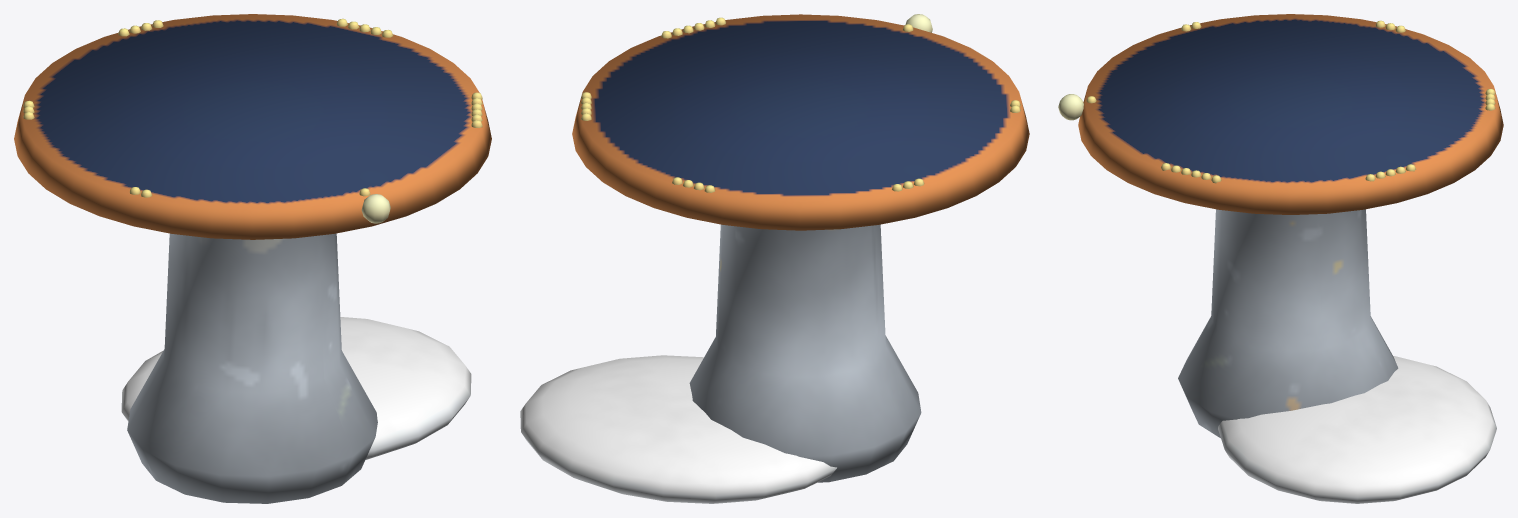
The model's file is star_dial.glb.
3 renders of one model, left to right at view 1: azimuth 30°, elevation 25°; view 2: azimuth 150°, elevation 25°; view 3: azimuth 270°, elevation 25°, orthographic. The views are drawn at different scales.
Parts seen in each view (by area): view 1: StarDial; view 2: StarDial; view 3: StarDial.
Boxes of the visible parts, x1,y1,x2,y2 form: StarDial: (14,14,491,503); StarDial: (520,14,1029,503); StarDial: (1058,14,1503,503).
Bounding box in the file's own units: 1.38 × 1.09 × 1.34.
1 material, 1 textured.
